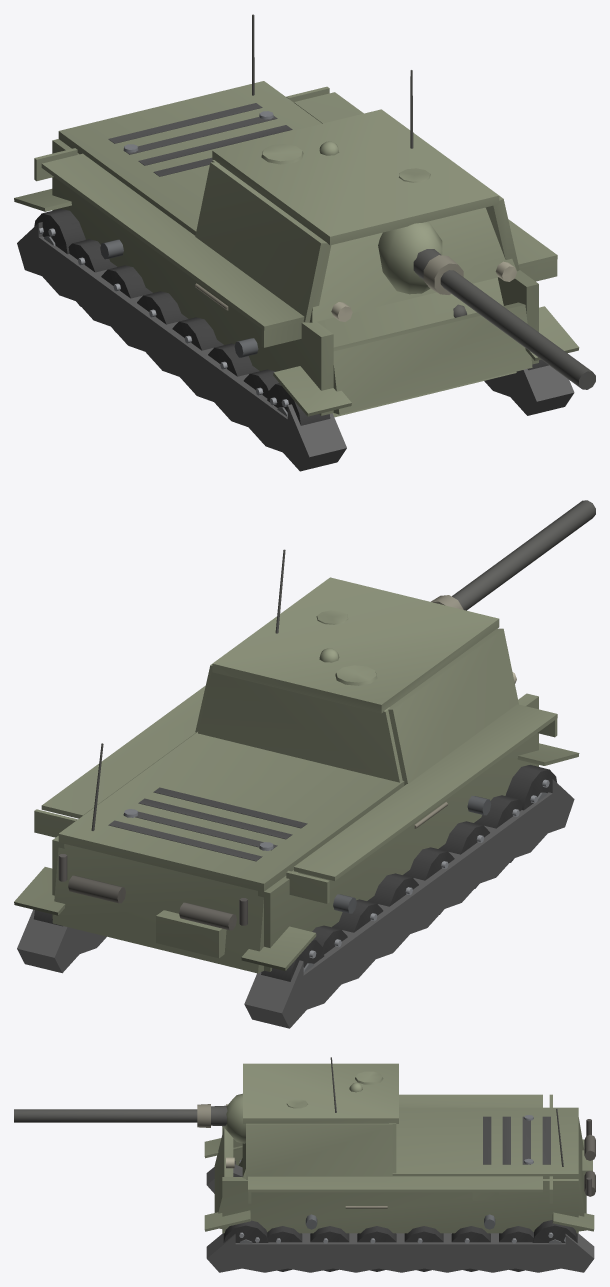
Rendered from isu152.glb.
3 views of the same model, one above another, from view 1: azimuth 30°, elevation 25°; view 2: azimuth 150°, elevation 25°; view 3: azimuth 270°, elevation 25° (orthographic). The views are drawn at different scales.
Visible parts, largest first — view 1: hullSide, turretRoof, tracks, hullTop, lowerPlate, turretSide, mantlet, barrel, glacis, wheel7, wheel1, wheel2 (+5 smaller); view 2: hullTop, hullSide, turretSide, tracks, turretRoof, hullRear, barrel, wheel6, wheel4, wheel3, wheel2, wheel5 (+2 smaller); view 3: hullSide, tracks, hullTop, turretRoof, turretSide, barrel, hullRear, lowerPlate, mantlet, wheel14, wheel15, wheel10 (+5 smaller).
Part boxes in pixels (bbox=[...]): hullSide: bbox=[34, 86, 557, 415]; turretRoof: bbox=[212, 70, 499, 245]; tracks: bbox=[14, 189, 579, 471]; hullTop: bbox=[58, 81, 321, 235]; lowerPlate: bbox=[333, 302, 532, 414]; turretSide: bbox=[195, 160, 519, 322]; mantlet: bbox=[309, 207, 517, 322]; barrel: bbox=[413, 249, 595, 389]; glacis: bbox=[317, 277, 516, 417]; wheel7: bbox=[34, 208, 85, 254]; wheel1: bbox=[101, 265, 152, 332]; wheel2: bbox=[137, 291, 188, 324]; hullTop: bbox=[58, 732, 404, 891]; hullSide: bbox=[34, 672, 557, 971]; turretSide: bbox=[195, 628, 518, 785]; tracks: bbox=[14, 743, 579, 1028]; turretRoof: bbox=[212, 549, 499, 713]; hullRear: bbox=[52, 743, 263, 973]; barrel: bbox=[431, 500, 595, 610]; wheel6: bbox=[505, 765, 556, 810]; wheel4: bbox=[438, 821, 489, 888]; wheel3: bbox=[403, 847, 454, 914]; wheel2: bbox=[367, 873, 418, 906]; wheel5: bbox=[474, 795, 522, 862]; hullSide: bbox=[222, 1094, 578, 1233]; tracks: bbox=[204, 1138, 594, 1272]; hullTop: bbox=[392, 1107, 578, 1178]; turretRoof: bbox=[243, 1057, 398, 1123]; turretSide: bbox=[246, 1123, 396, 1179]; barrel: bbox=[14, 1104, 227, 1127]; hullRear: bbox=[556, 1109, 595, 1231]; lowerPlate: bbox=[214, 1128, 233, 1228]; mantlet: bbox=[223, 1093, 245, 1178]; wheel14: bbox=[223, 1220, 268, 1243]; wheel15: bbox=[532, 1220, 577, 1243]; wheel10: bbox=[404, 1226, 443, 1271].
Bounding box in the file's own units: 4.28 × 4.1 × 11.11.
